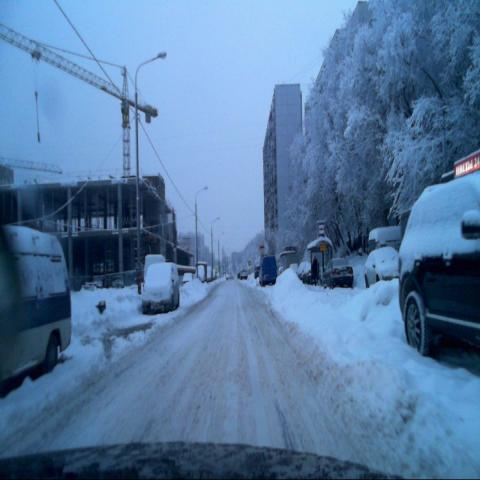5_16: (317, 221, 324, 237)
